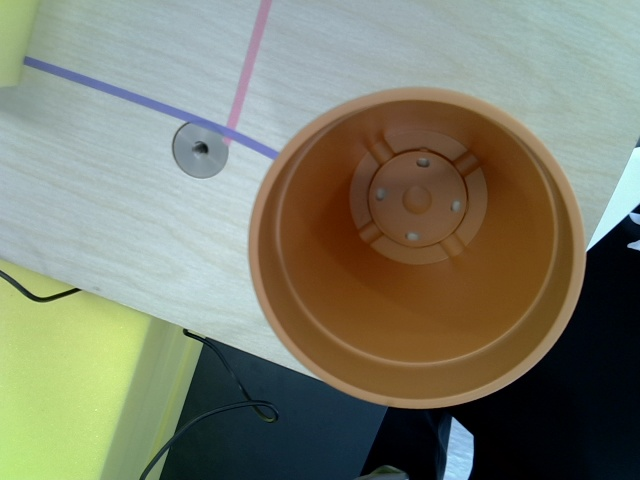화분: (247, 86, 584, 414)
